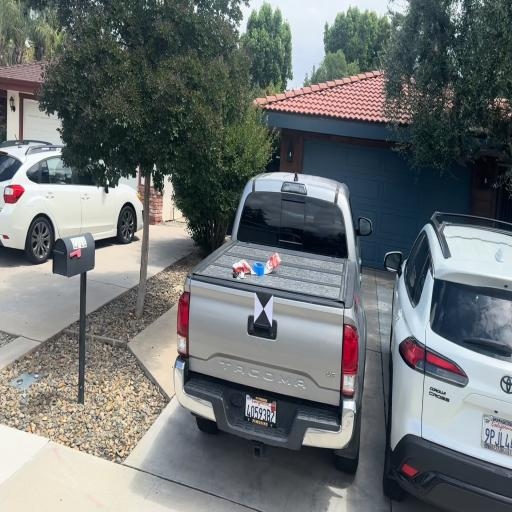target: (254, 292, 273, 328)
